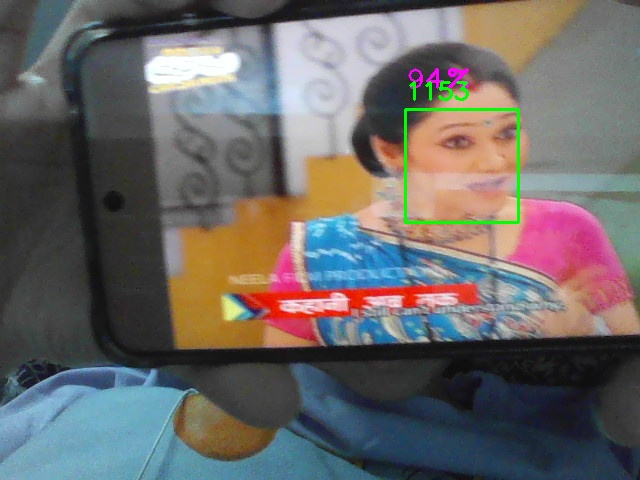fake: (405, 109, 519, 223)
